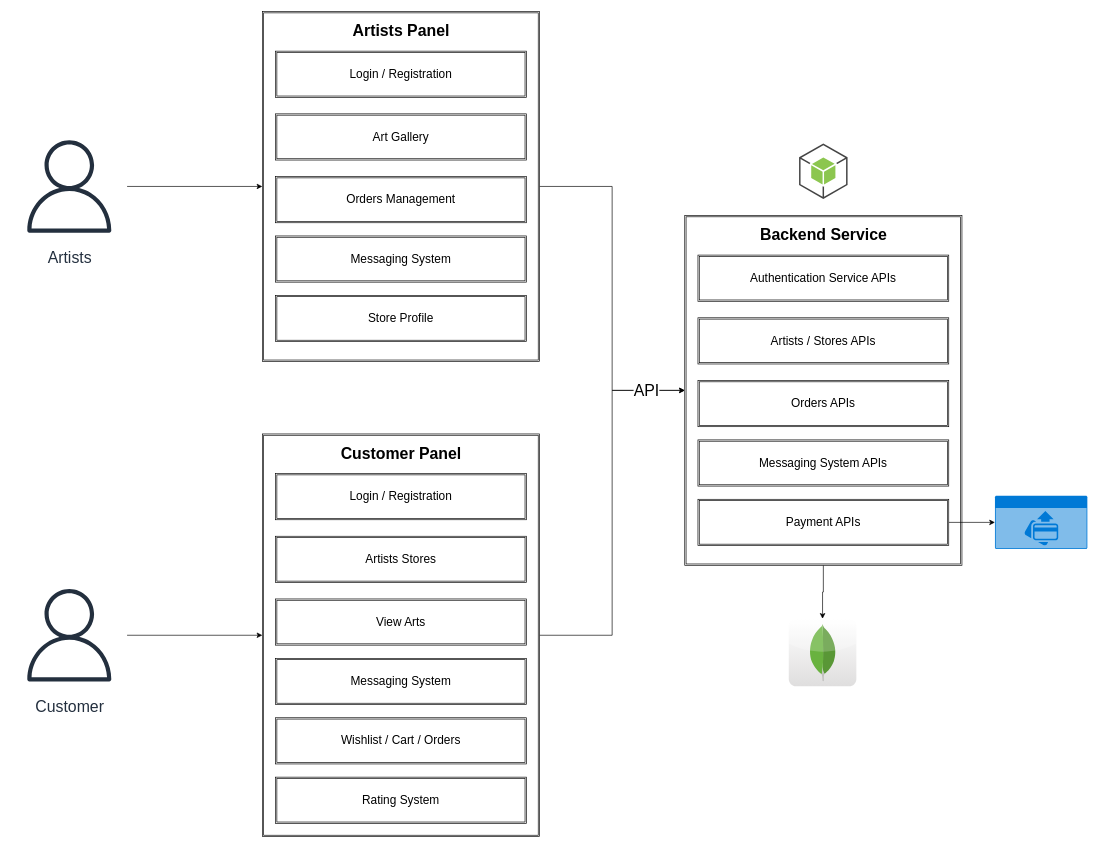
Some shapes in this 1099 by 848 pixel diagram are drawn without their labels. Each missing label, with the centre of its shape:
"MongoDB" goes at (x=822, y=652).
"RazorPay" goes at (x=1041, y=522).
